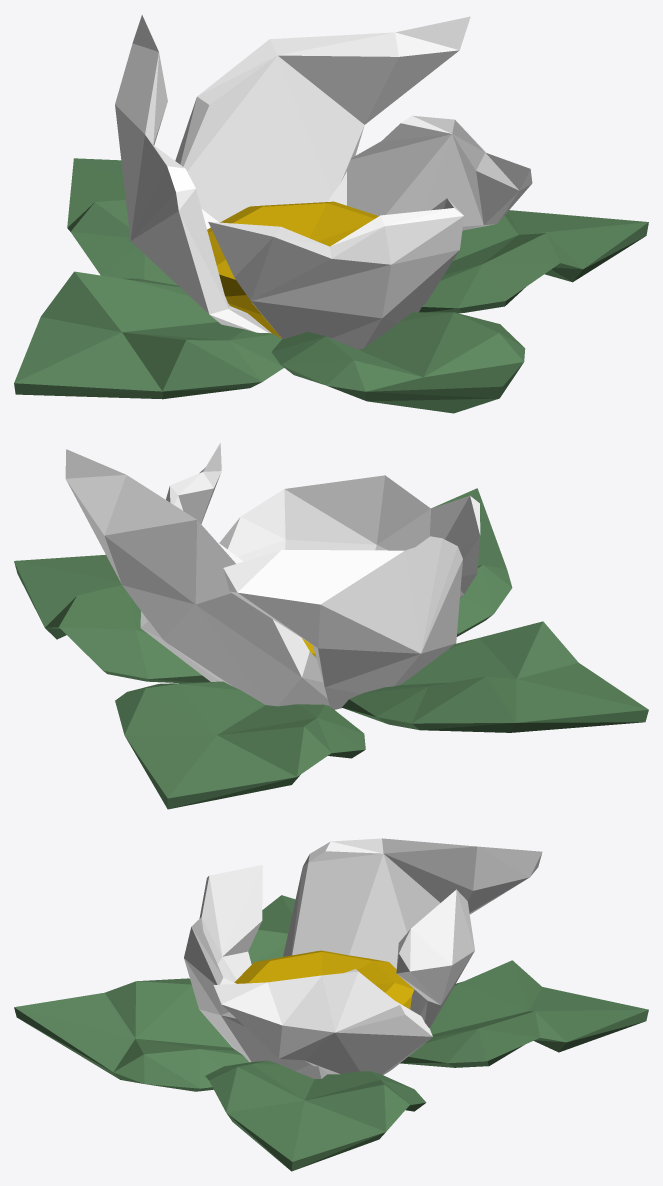
Rendered from flower_5.obj.
The picture shows the model from 3 angles, top to bottom: view 1: azimuth 30°, elevation 25°; view 2: azimuth 150°, elevation 25°; view 3: azimuth 270°, elevation 25°; orthographic projection. The views are drawn at different scales.
Visible parts, largest first — view 1: flower_5; view 2: flower_5; view 3: flower_5.
Boxes of the visible parts, <box> form: flower_5: <box>14,15,648,413</box>; flower_5: <box>14,443,648,809</box>; flower_5: <box>14,838,648,1171</box>.
Size of the model in its own units: 1.09 by 0.3672 by 1.1.
